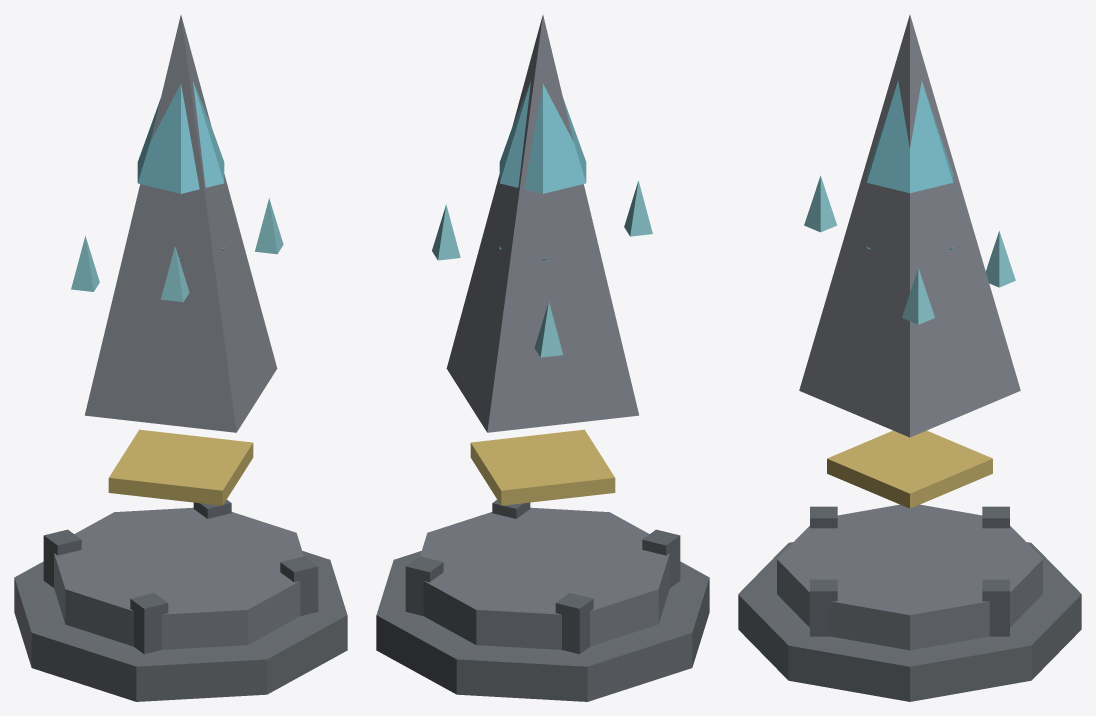
3 views of the same model, side by side, from view 1: azimuth 30°, elevation 25°; view 2: azimuth 150°, elevation 25°; view 3: azimuth 270°, elevation 25° (orthographic).
Parts seen in each view (by area): view 1: geometry_0; view 2: geometry_0; view 3: geometry_0.
Part boxes in pixels (x1,y1,x2,y2): geometry_0: (14, 15, 347, 701); geometry_0: (376, 15, 709, 701); geometry_0: (738, 15, 1081, 701).
Size of the model in its own units: 1.24 by 2.45 by 1.24.
